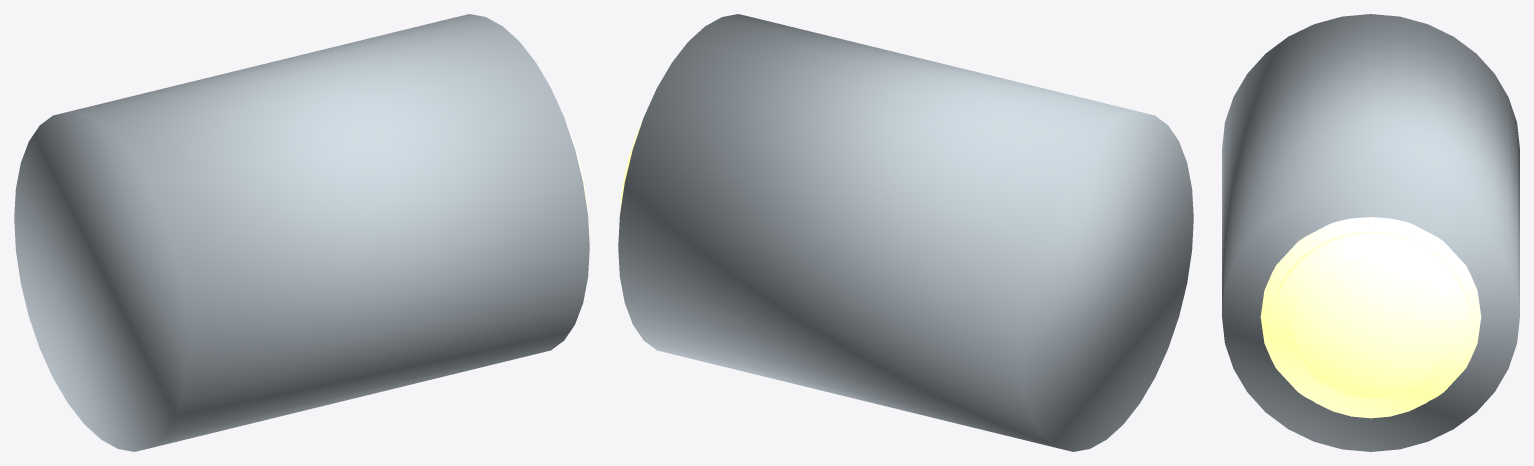
Rendered from source-point.glb.
3 views of the same model, side by side, from view 1: azimuth 30°, elevation 25°; view 2: azimuth 150°, elevation 25°; view 3: azimuth 270°, elevation 25° (orthographic). The views are drawn at different scales.
Visible parts, largest first — view 1: lamp barrel; view 2: lamp barrel; view 3: lamp barrel, point bulb, emitter.
Part boxes in pixels (x1,y1,x2,y2): lamp barrel: [14, 14, 589, 451]; lamp barrel: [618, 14, 1193, 451]; lamp barrel: [1222, 14, 1519, 451]; point bulb: [1260, 217, 1481, 400]; emitter: [1271, 231, 1470, 418].
Bounding box in the file's own units: 0.54 × 0.36 × 0.36.
